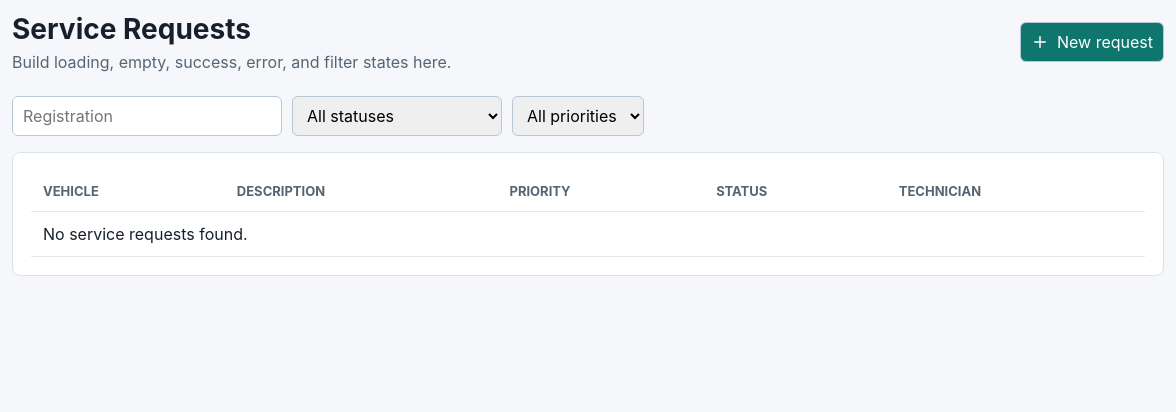
Test: ServiceRequestsPage training exercises › shows an error message when opening a request fails
Click the button "New request" at (1092, 42), box 1020,22 -> 1164,62
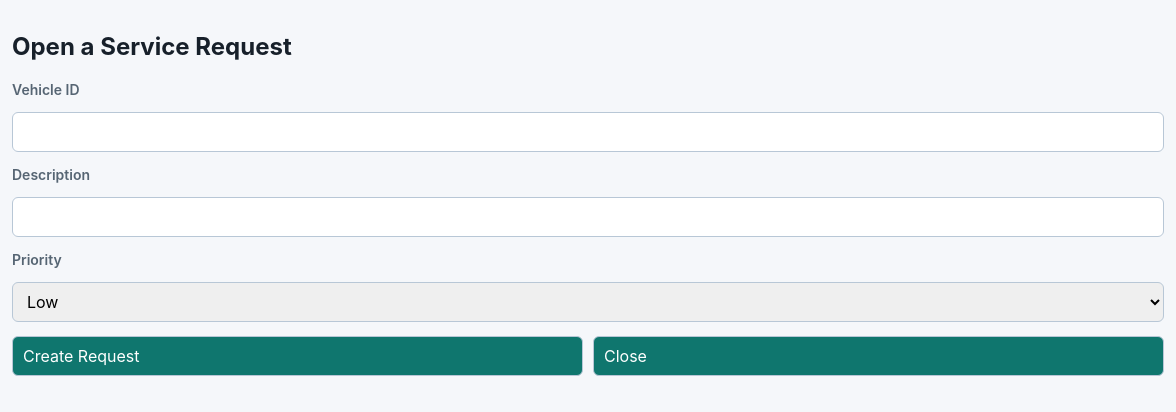
Type "550e8400-e29b-41d4-a716-446655440000" into the field labelled "Vehicle ID" at (588, 132), box 12,112 -> 1164,152
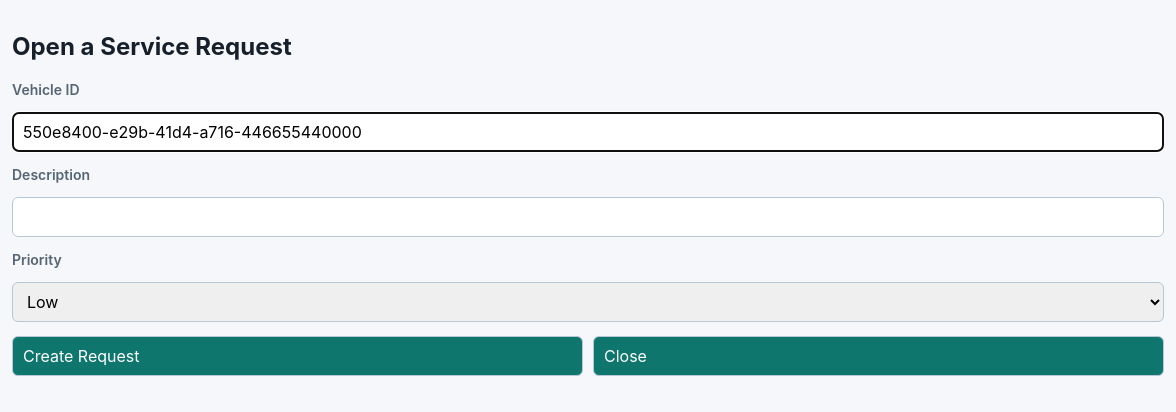
Type "Investigate brake noise" into the field labelled "Description" at (588, 217), box 12,197 -> 1164,237
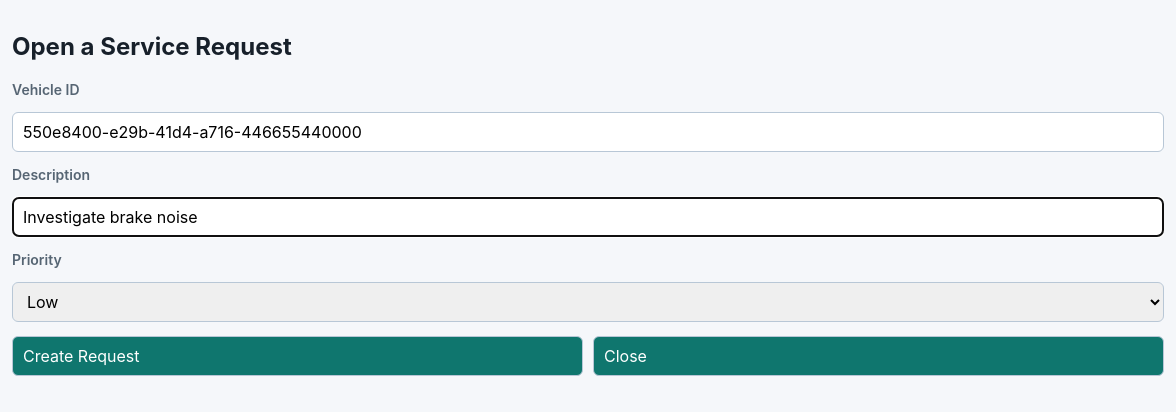
Click the button "Create Request" at (81, 356), box 12,336 -> 583,376
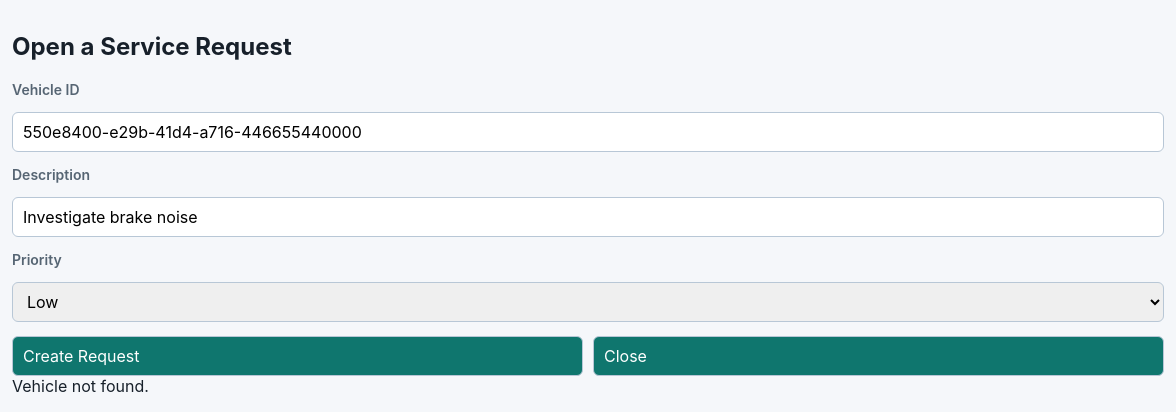
Check: the message shows "Vehicle not found", box 12,376 -> 149,396
